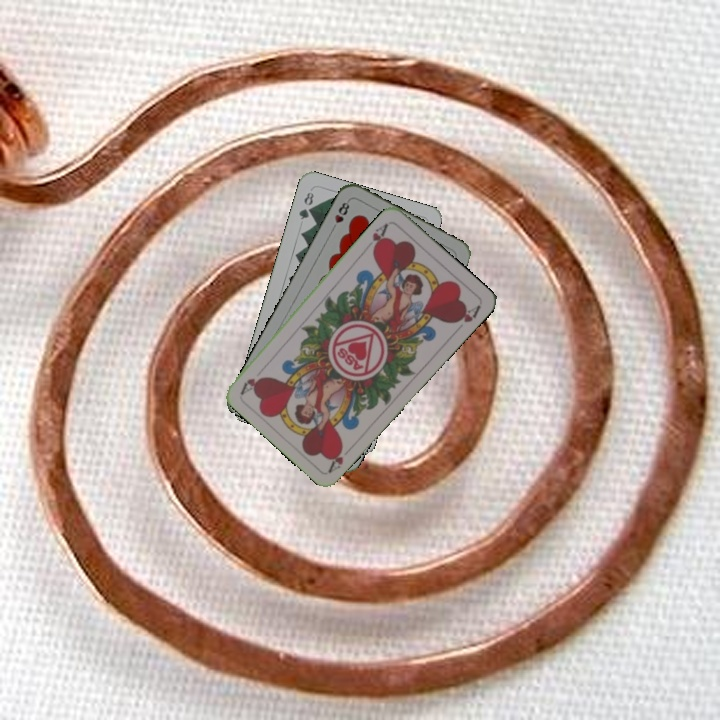G8: (295, 188, 316, 222)
H8: (327, 196, 352, 234)
HA: (361, 219, 391, 256), (325, 441, 356, 474)
